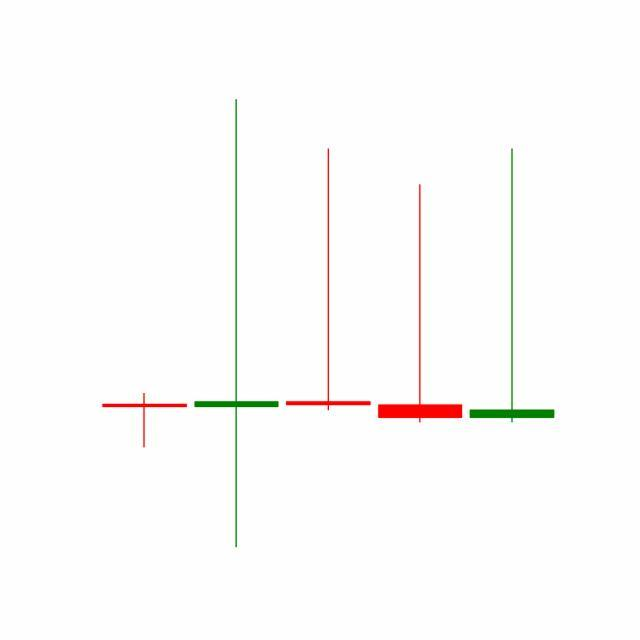Gravestone Doji: (466, 146, 559, 427)
